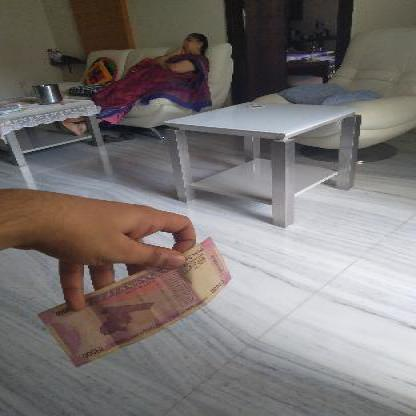New2000Back: (43, 237, 232, 363)
